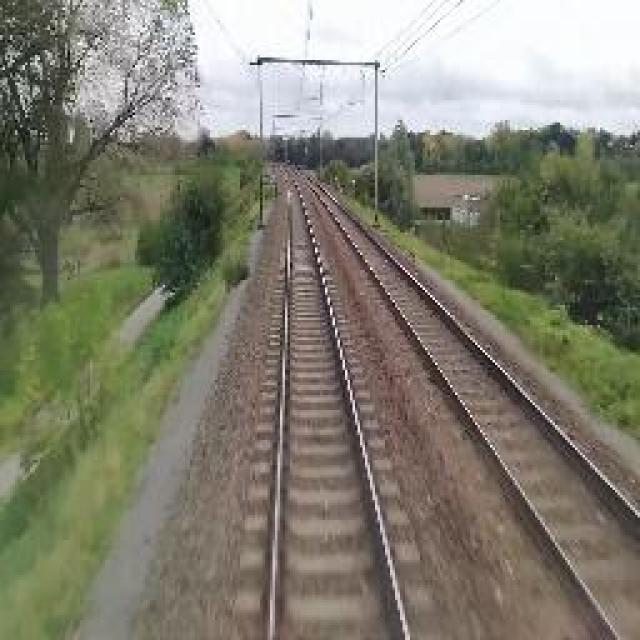rail: (231, 163, 455, 640)
